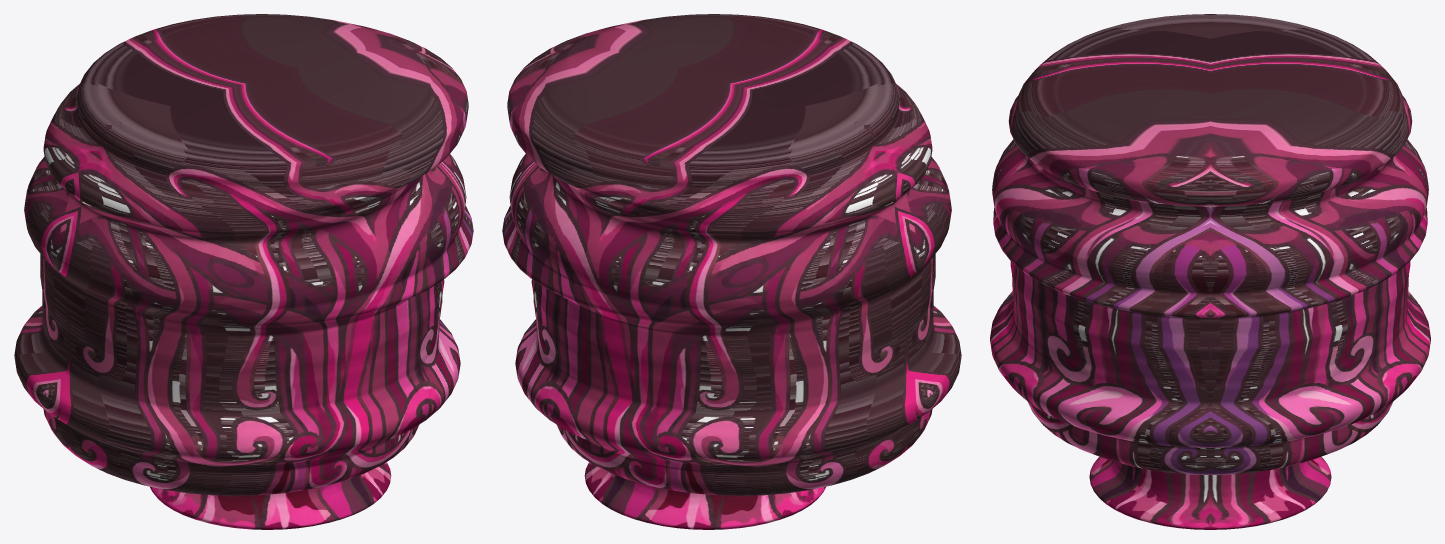
File: tendril_tree.glb
The picture shows the model from 3 angles, left to right: view 1: azimuth 30°, elevation 25°; view 2: azimuth 150°, elevation 25°; view 3: azimuth 270°, elevation 25°; orthographic projection.
Visible parts, largest first — view 1: tendril_tree; view 2: tendril_tree; view 3: tendril_tree.
Boxes of the visible parts, x1,y1,x2,y2 form: tendril_tree: (14,14,473,529); tendril_tree: (502,14,961,529); tendril_tree: (990,14,1430,529).
Size of the model in its own units: 0.9979 by 1.01 by 0.961.
1 material, 1 textured.
